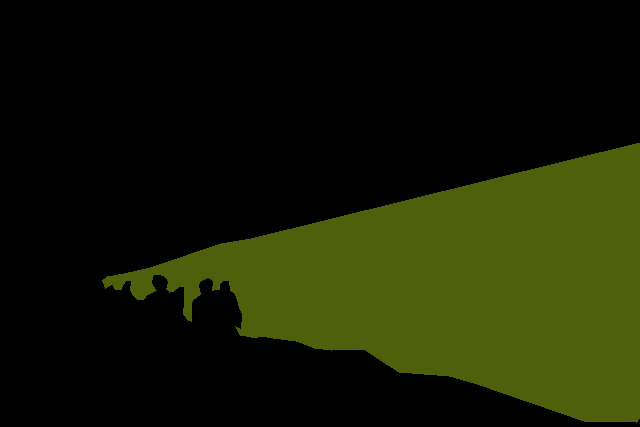Train: (102, 142, 640, 422)
